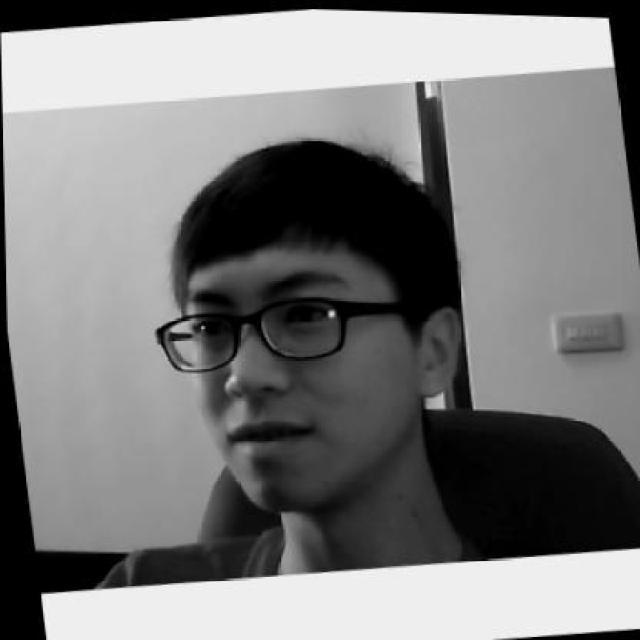attentif: (127, 119, 476, 518)
